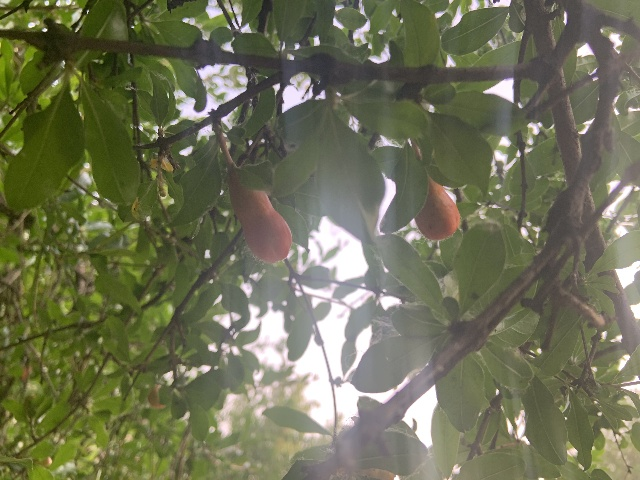bud: (229, 174, 291, 262), (414, 176, 460, 240)
